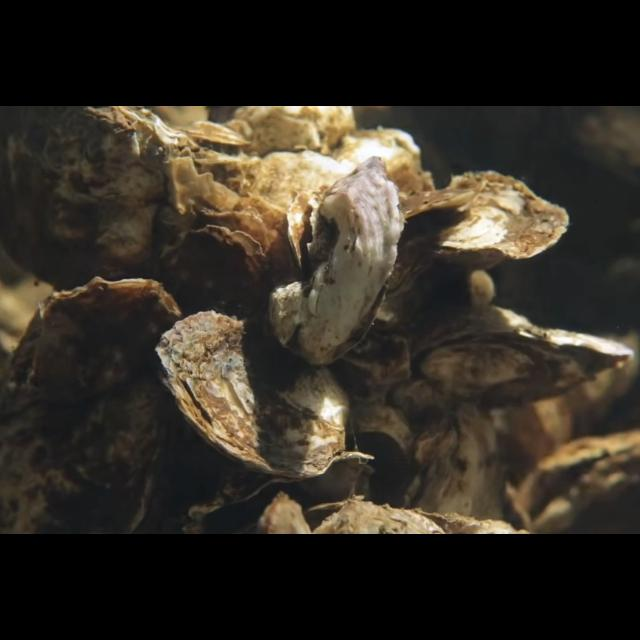Oyster-Closed: (0, 276, 184, 534), (0, 106, 220, 286), (153, 310, 353, 480), (268, 156, 404, 367), (386, 172, 570, 298), (396, 402, 510, 534), (157, 225, 270, 327)
Oyster-Open: (410, 305, 634, 411), (188, 453, 374, 535), (518, 434, 640, 534), (172, 118, 252, 168)
